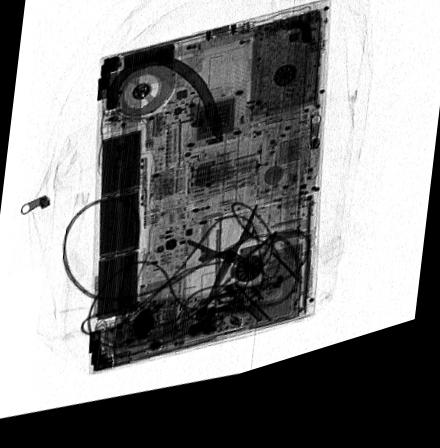Scissors: (179, 216, 267, 325)
